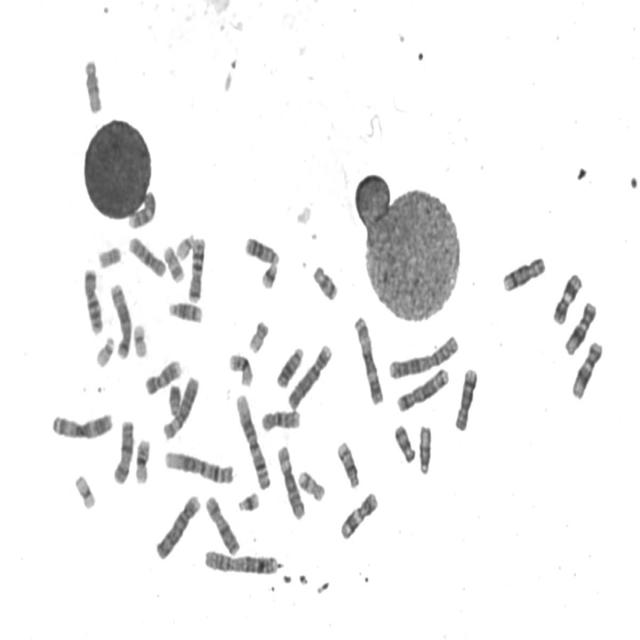A1: (233, 390, 272, 490), (162, 446, 236, 486)
A2: (386, 330, 461, 381), (202, 545, 280, 577)
A3: (352, 313, 385, 407), (49, 409, 114, 441)
B4: (153, 491, 202, 562), (286, 340, 334, 411)
B5: (395, 364, 451, 413), (107, 279, 133, 360)
C10: (126, 233, 168, 279), (260, 406, 302, 432)
C11: (338, 488, 380, 541), (551, 270, 584, 326)
C12: (570, 338, 604, 401), (563, 298, 598, 357)
C6: (161, 372, 200, 442), (275, 442, 307, 521)
C7: (80, 265, 104, 336), (185, 234, 206, 304)
C8: (501, 252, 547, 294), (453, 364, 479, 432)
C9: (143, 356, 183, 397), (126, 188, 157, 231)
D13: (274, 343, 305, 390), (243, 233, 281, 266)
D14: (335, 438, 360, 490), (166, 298, 205, 324)
D15: (82, 55, 104, 115), (417, 422, 433, 476)
E16: (227, 350, 254, 389), (132, 435, 152, 485)
E17: (161, 242, 186, 284), (296, 468, 326, 503)
E18: (310, 262, 340, 302), (392, 421, 417, 464)
F19: (72, 471, 97, 512), (131, 320, 149, 359)
F20: (247, 317, 270, 355), (98, 245, 120, 268)
G21: (258, 259, 280, 290), (236, 488, 261, 514)
G22: (94, 333, 116, 369), (174, 230, 196, 261)
X: (204, 492, 242, 557), (110, 416, 136, 486)
Y: (167, 382, 182, 417)
